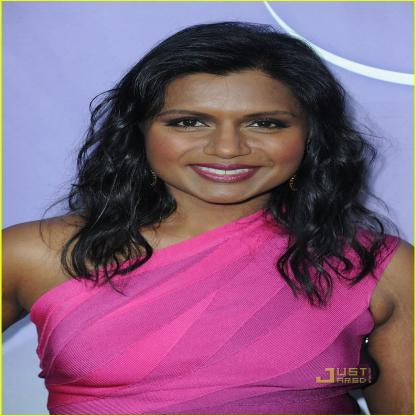long-hair: (56, 203, 402, 269)
